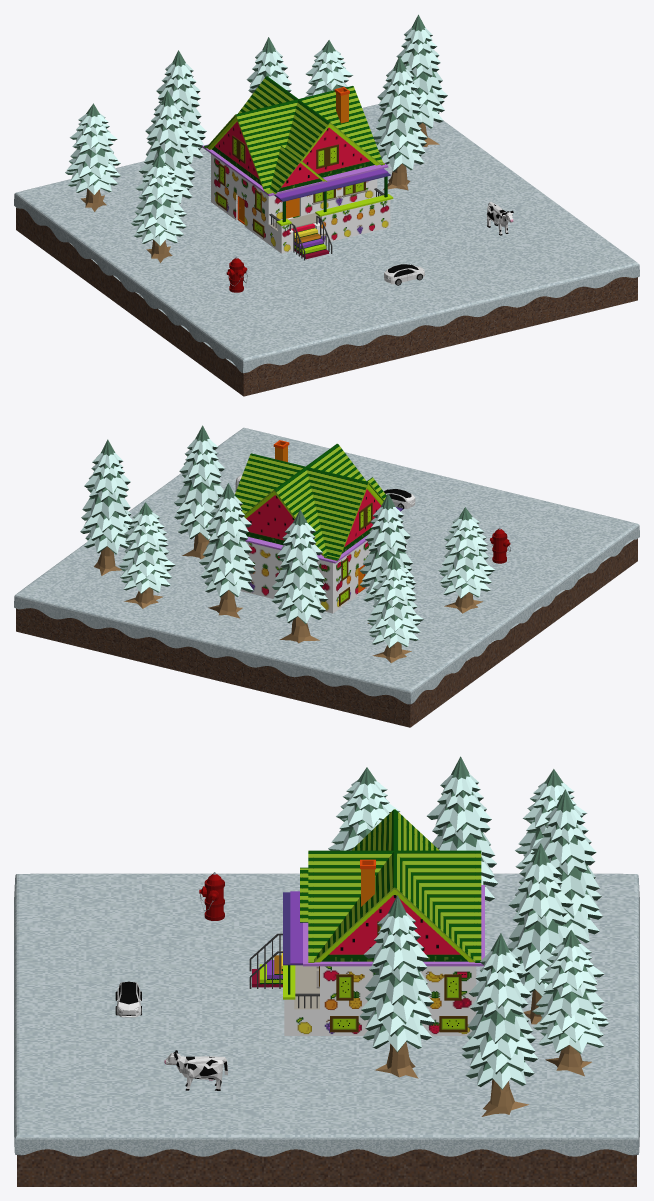
The picture shows the model from 3 angles, top to bottom: view 1: azimuth 30°, elevation 25°; view 2: azimuth 150°, elevation 25°; view 3: azimuth 270°, elevation 25°; orthographic projection. The views are drawn at different scales.
Visible parts, largest first — view 1: Cube.003, Cube.1063, VEHICLES_TESLA, ANIMAL_VACA, OBJRANDOM_FIRE_HYDRANT; view 2: Cube.003, Cube.1063, OBJRANDOM_FIRE_HYDRANT, VEHICLES_TESLA; view 3: Cube.003, Cube.1063, ANIMAL_VACA, OBJRANDOM_FIRE_HYDRANT, VEHICLES_TESLA.
Part boxes in pixels (box(x1,y1,x2,y2)): Cube.003: box(14, 14, 639, 396); Cube.1063: box(202, 76, 393, 260); VEHICLES_TESLA: box(384, 264, 424, 285); ANIMAL_VACA: box(486, 202, 513, 235); OBJRANDOM_FIRE_HYDRANT: box(226, 256, 247, 292); Cube.003: box(14, 425, 639, 727); Cube.1063: box(235, 440, 405, 613); OBJRANDOM_FIRE_HYDRANT: box(490, 527, 510, 563); VEHICLES_TESLA: box(383, 489, 415, 508); Cube.003: box(14, 756, 639, 1186); Cube.1063: box(249, 809, 484, 1035); ANIMAL_VACA: box(164, 1050, 227, 1090); OBJRANDOM_FIRE_HYDRANT: box(199, 872, 224, 920); VEHICLES_TESLA: box(115, 981, 141, 1017).
Size of the model in its own units: 4040 by 1715 by 4040.
Materials: 28 (6 with a texture image).
